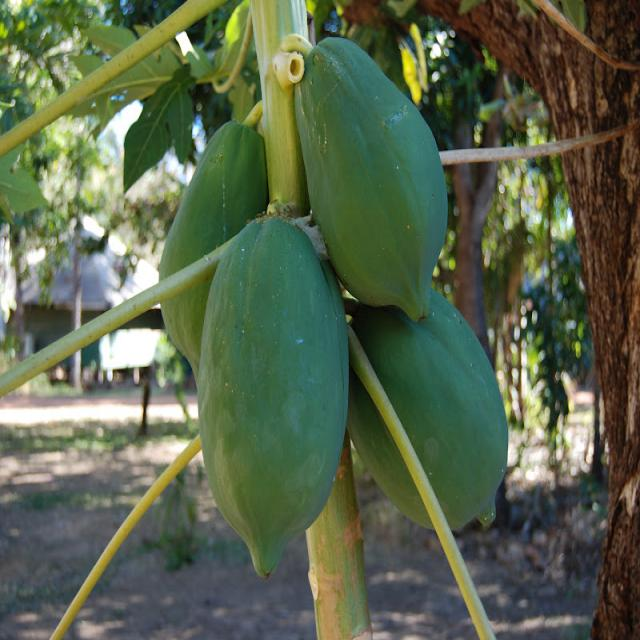Pepaya unrippen: (198, 217, 349, 584), (298, 25, 444, 317), (360, 312, 514, 539), (157, 131, 263, 372)
